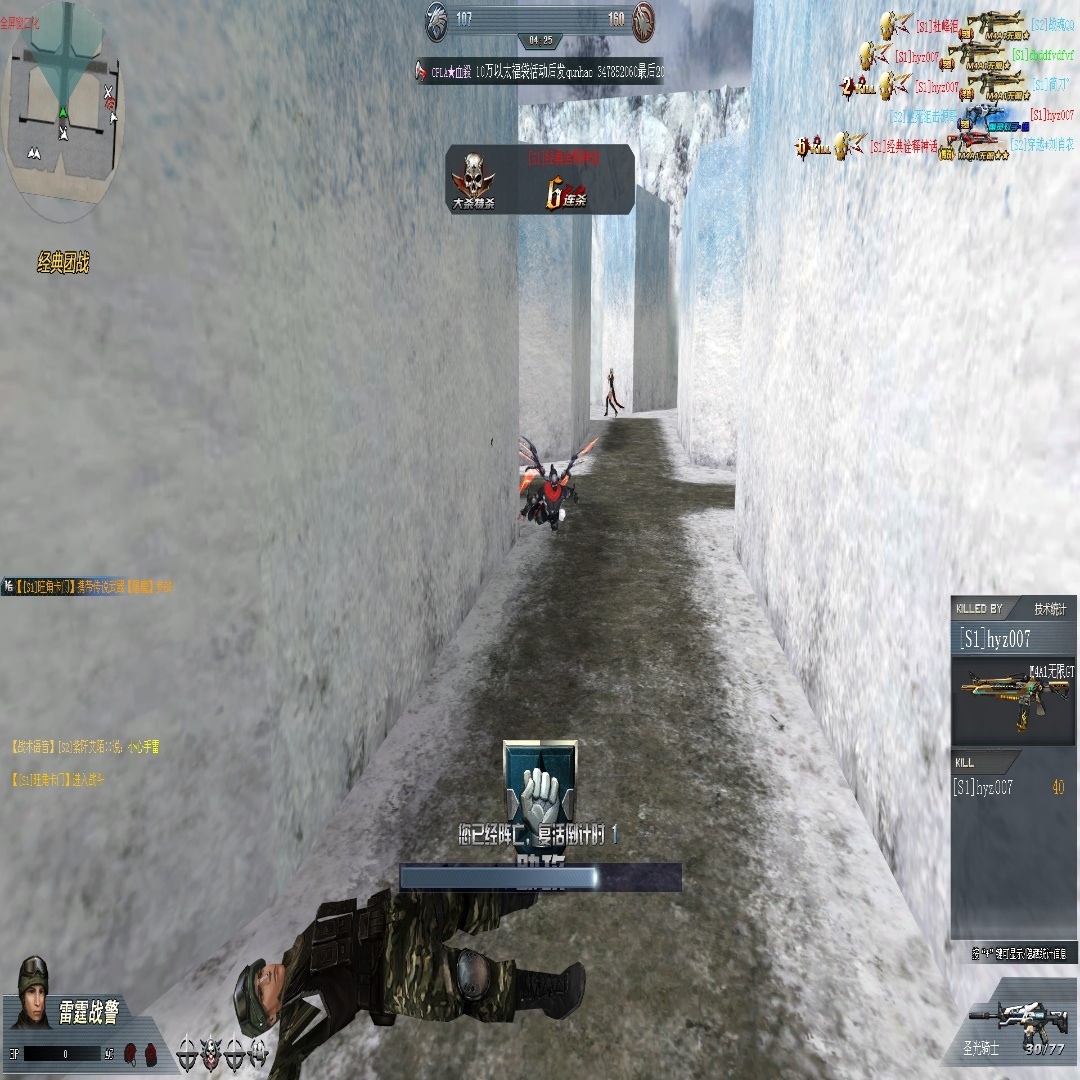t: (604, 369, 615, 417)
